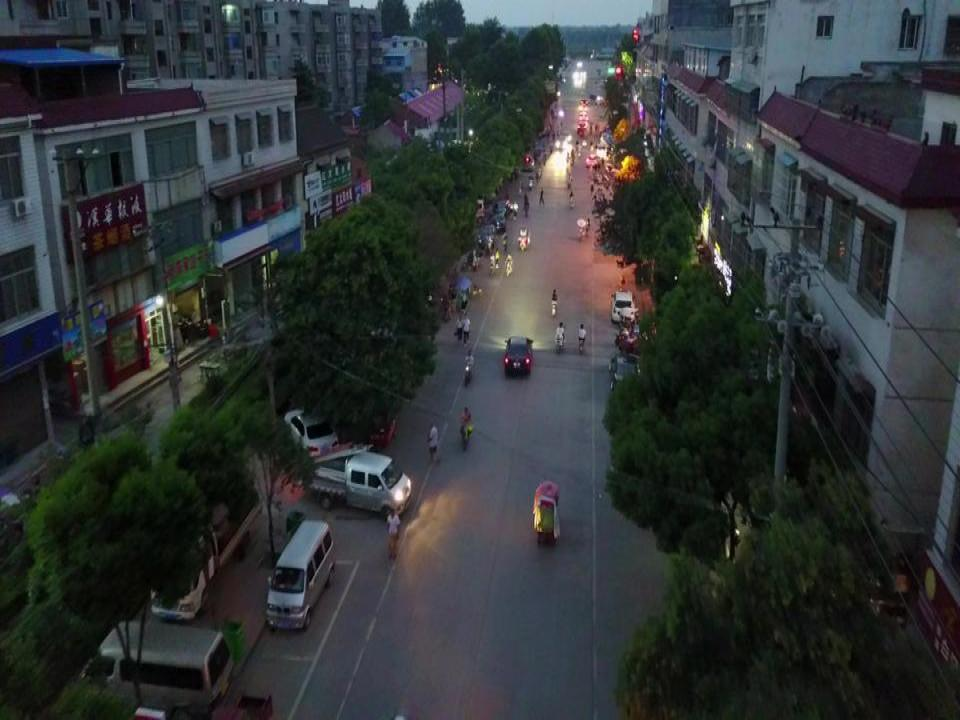car: (284, 407, 337, 464), (608, 352, 641, 397), (503, 336, 534, 376), (449, 196, 484, 231), (610, 289, 636, 326), (478, 224, 496, 248), (510, 152, 534, 169), (491, 198, 508, 219), (490, 212, 506, 233)
truck: (149, 471, 261, 621), (314, 449, 409, 520)
van: (79, 620, 234, 720), (267, 517, 333, 635)
